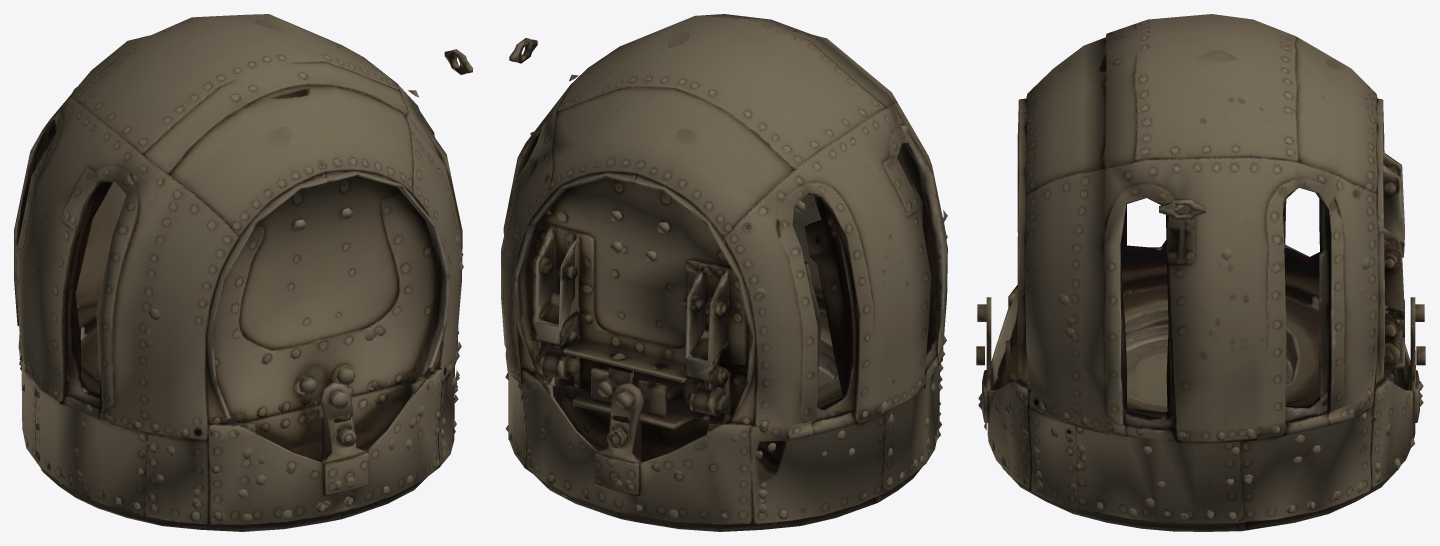
Rendered from tailmantlet_remesh.glb.
3 renders of one model, left to right at view 1: azimuth 30°, elevation 25°; view 2: azimuth 150°, elevation 25°; view 3: azimuth 270°, elevation 25°, orthographic.
Visible parts, largest first — view 1: tripo_node_9e5cb5f6-5d44-4096-b3f2-78b73; view 2: tripo_node_9e5cb5f6-5d44-4096-b3f2-78b73; view 3: tripo_node_9e5cb5f6-5d44-4096-b3f2-78b73.
Part boxes in pixels (x1=…): tripo_node_9e5cb5f6-5d44-4096-b3f2-78b73: x1=14, y1=14, x2=472, y2=531; tripo_node_9e5cb5f6-5d44-4096-b3f2-78b73: x1=501, y1=14, x2=947, y2=531; tripo_node_9e5cb5f6-5d44-4096-b3f2-78b73: x1=976, y1=14, x2=1425, y2=531.
Size of the model in its own units: 0.9804 by 0.9491 by 0.9335.
1 material, 1 textured.
